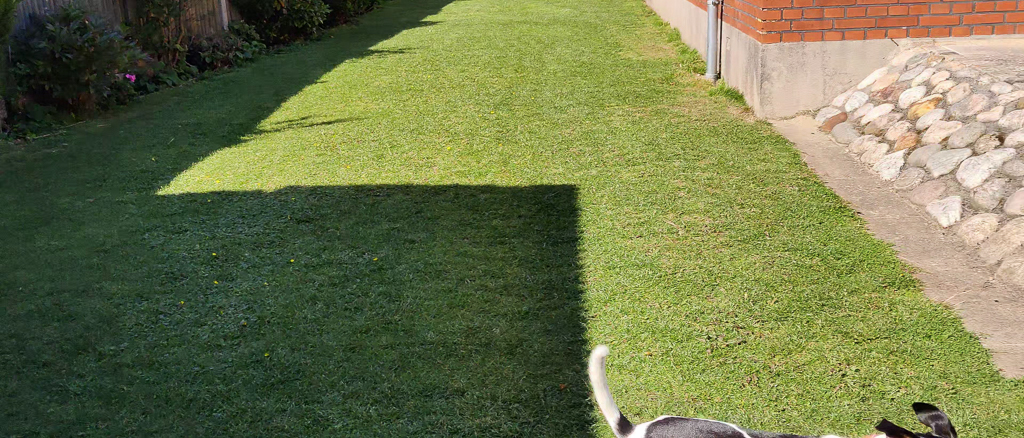Dog: (581, 329, 964, 438)
